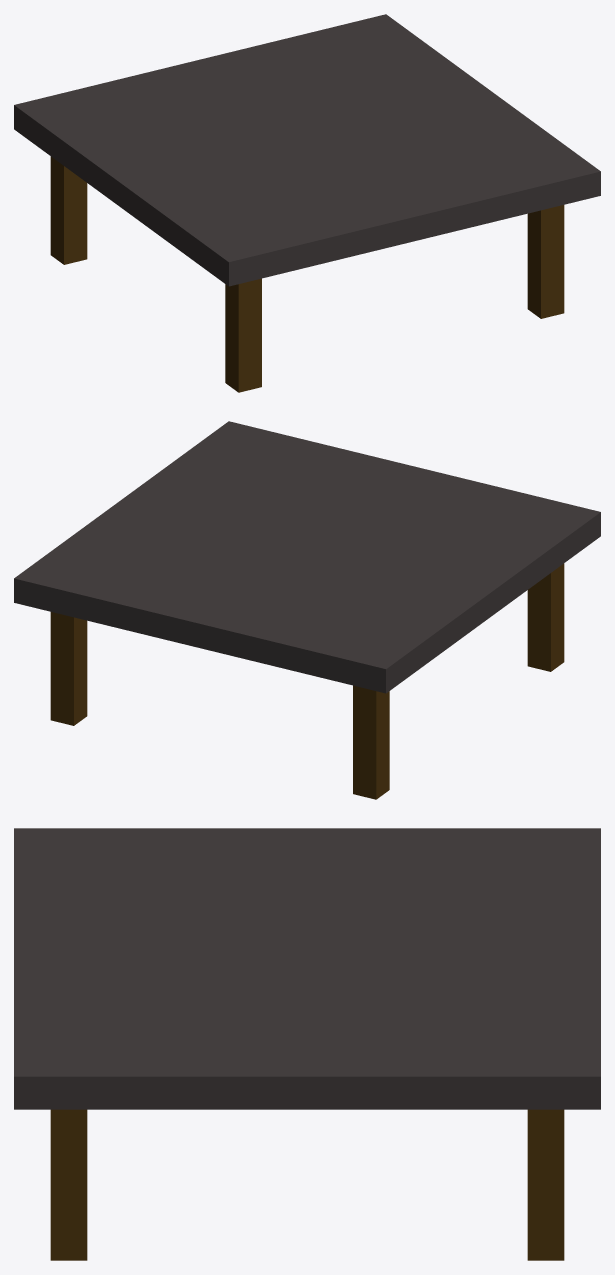
The model's file is obj_table_9_0.obj.
3 views of the same model, one above another, from view 1: azimuth 30°, elevation 25°; view 2: azimuth 150°, elevation 25°; view 3: azimuth 270°, elevation 25° (orthographic). The views are drawn at different scales.
Size of the model in its own units: 2 by 0.75 by 2.
